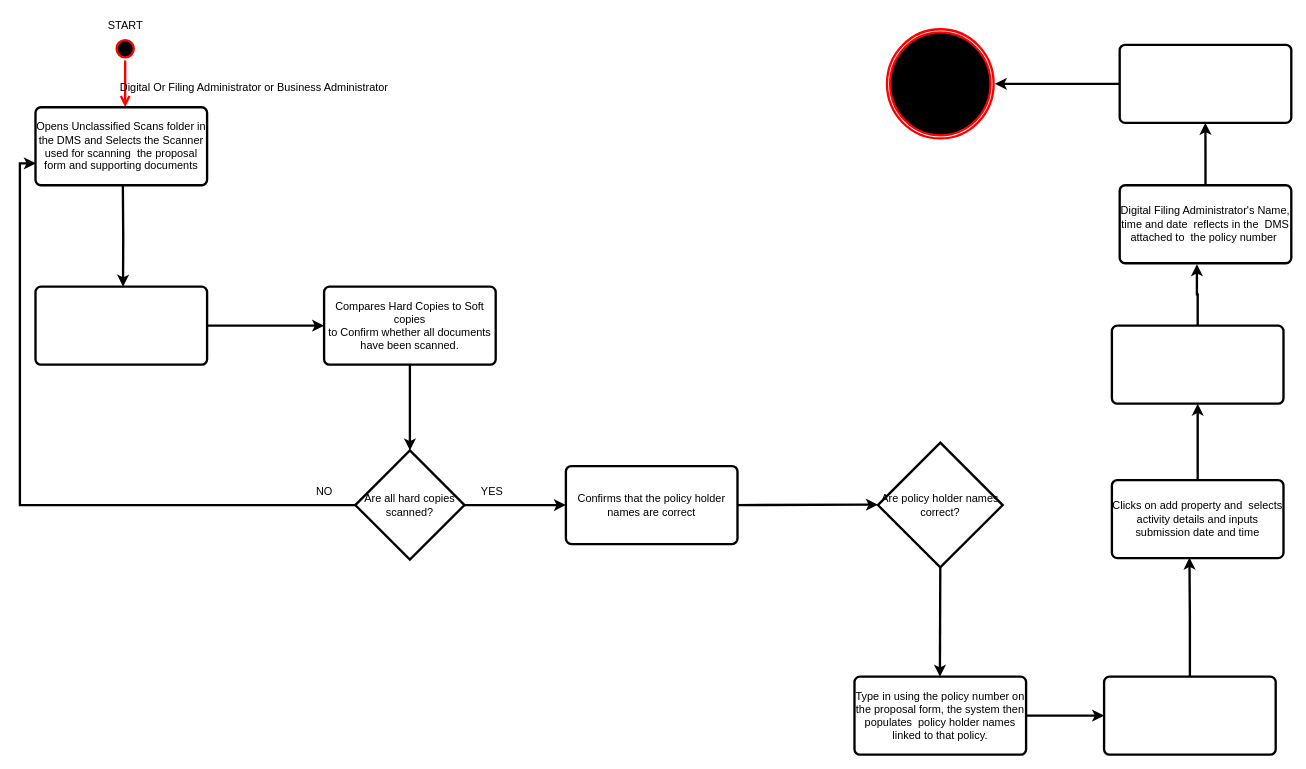
The diagram is 1306 pixels wide and 769 high, and some of its shapes have lost their labels. The box of each missing label's shape, as (x1, y1, x2, y2) in pixels:
Clicks on the documents grouping and selects the product name: (1103, 675, 1276, 755)
Document moves from unclassified to reporting views: (1118, 43, 1292, 124)
Opens the documents they want to capture into the DMS: (34, 285, 208, 365)
Saves The Document: (1110, 324, 1284, 404)
